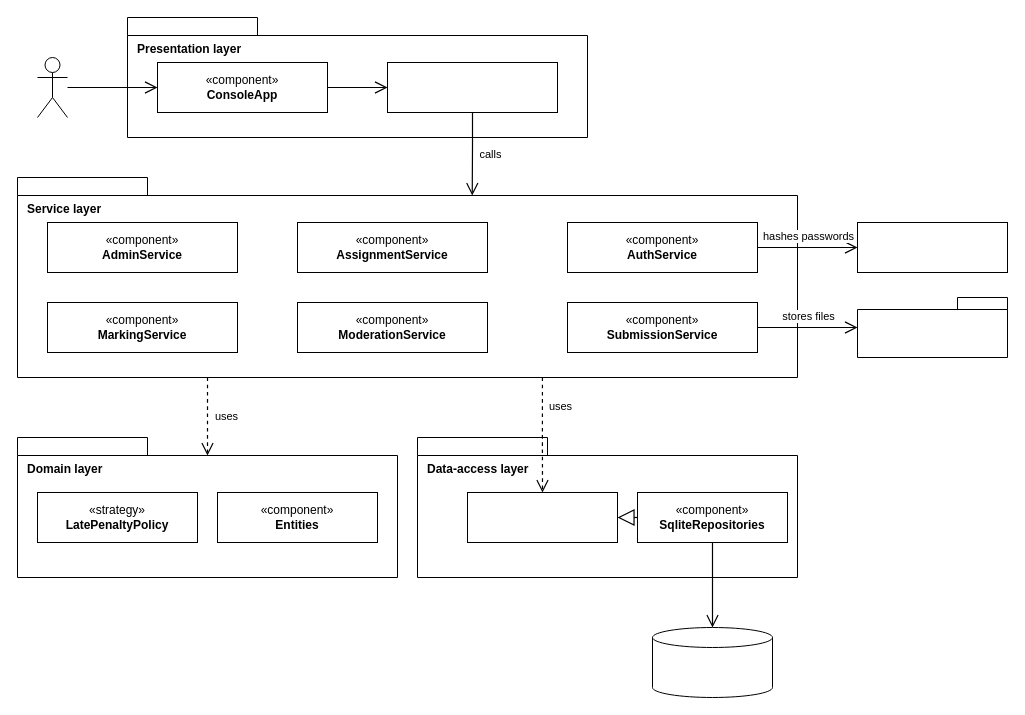
This 1025x715 diagram has some shape labels left out. Here are the shapes that lost their labels. From the top down, the centre of each, then its label:
At [52,87]: "User (any role)".
At [472,87]: "«component» RoleMenus".
At [932,247]: "«component» libsodium".
At [932,327]: "submissions/ (file folder)".
At [542,517]: "«interface» IRepositories".
At [712,662]: "lms.db (SQLite, WAL)".
